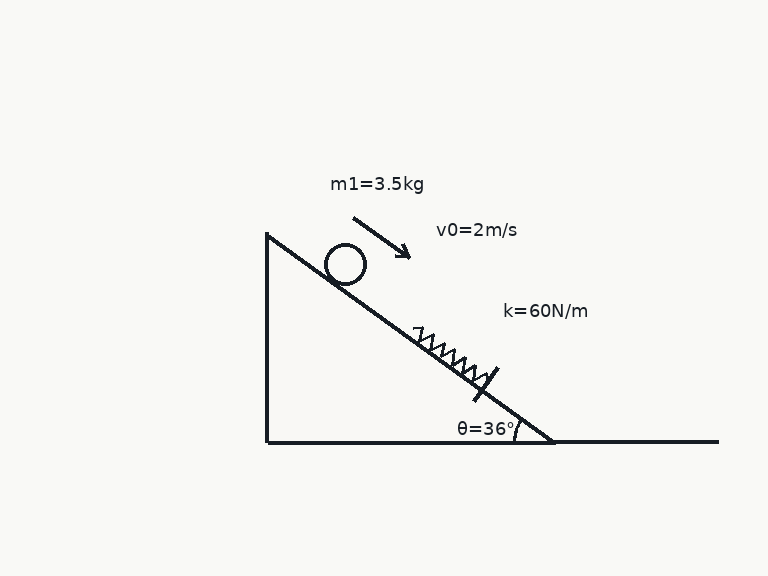ball: (322, 241, 368, 287)
ramp: (265, 231, 556, 444)
spring: (411, 325, 489, 385)
